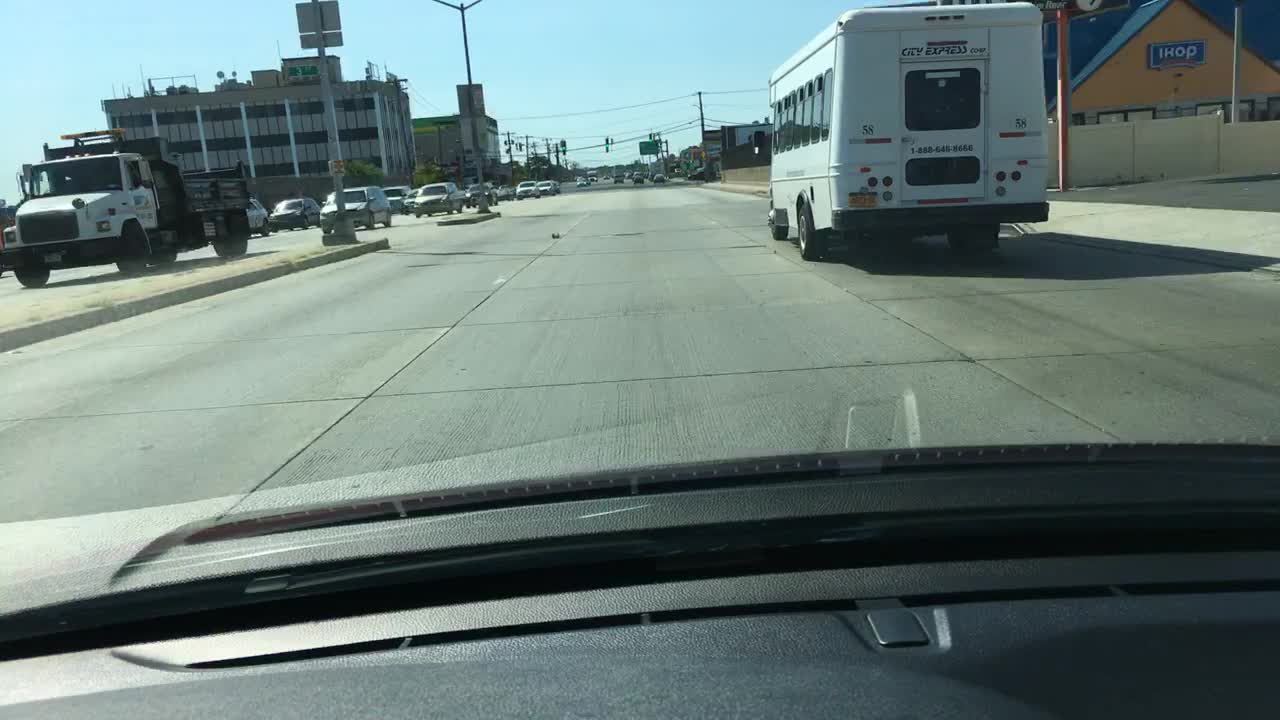bus: (765, 1, 1053, 263)
car: (318, 183, 393, 232), (414, 180, 468, 217), (267, 196, 320, 233), (246, 194, 272, 238), (379, 184, 409, 215), (464, 180, 494, 209), (515, 179, 544, 200), (403, 188, 421, 217), (485, 180, 501, 204), (536, 178, 557, 196), (498, 182, 518, 199), (687, 165, 707, 181), (651, 174, 669, 185), (587, 170, 601, 182), (631, 174, 643, 186), (575, 176, 588, 187), (552, 180, 563, 192), (613, 173, 624, 184), (631, 170, 644, 179), (645, 172, 657, 181), (584, 177, 594, 186), (601, 173, 611, 180), (624, 171, 633, 177)
traffic light: (560, 138, 566, 155), (605, 137, 610, 152), (647, 129, 653, 138)
traffic sign: (296, 0, 340, 30), (299, 28, 342, 50), (283, 64, 320, 78), (638, 141, 657, 155), (329, 160, 344, 177), (699, 150, 710, 159)
truck: (0, 127, 252, 286)
